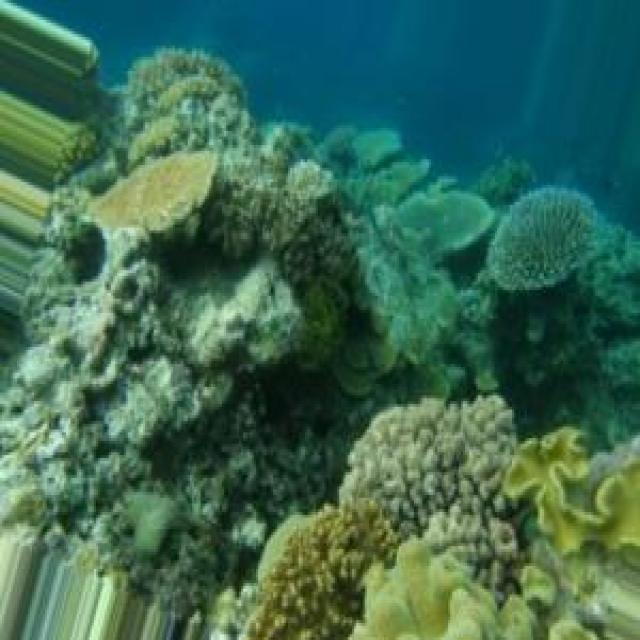bleached coral: (98, 48, 303, 239), (90, 262, 299, 449), (117, 233, 247, 435), (32, 421, 158, 577)
healthy coral: (230, 162, 640, 640)
